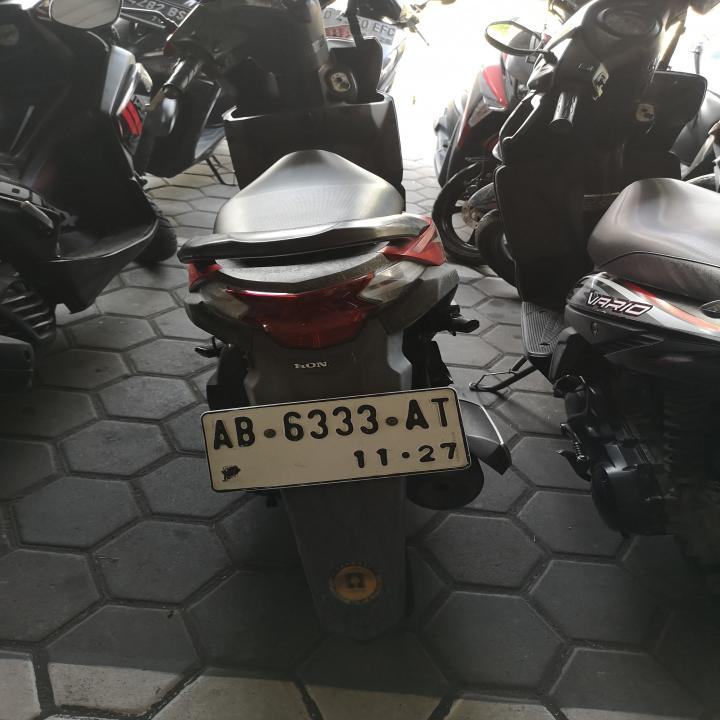plate: (199, 385, 477, 495)
